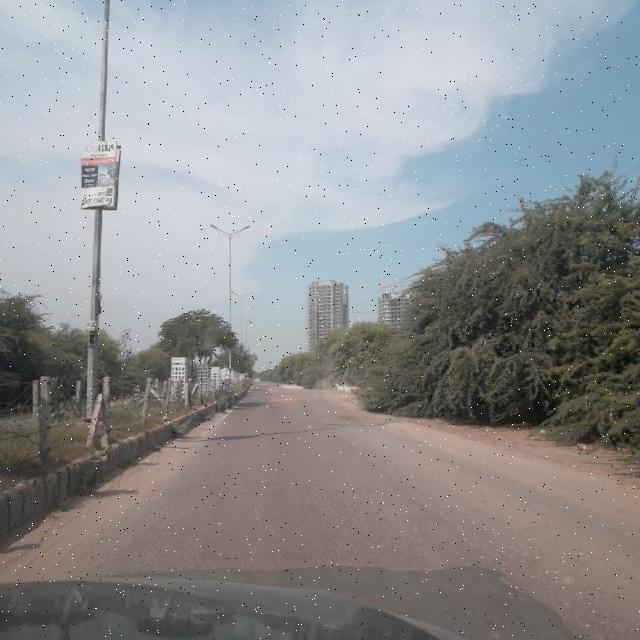D20: (117, 436, 479, 574)
